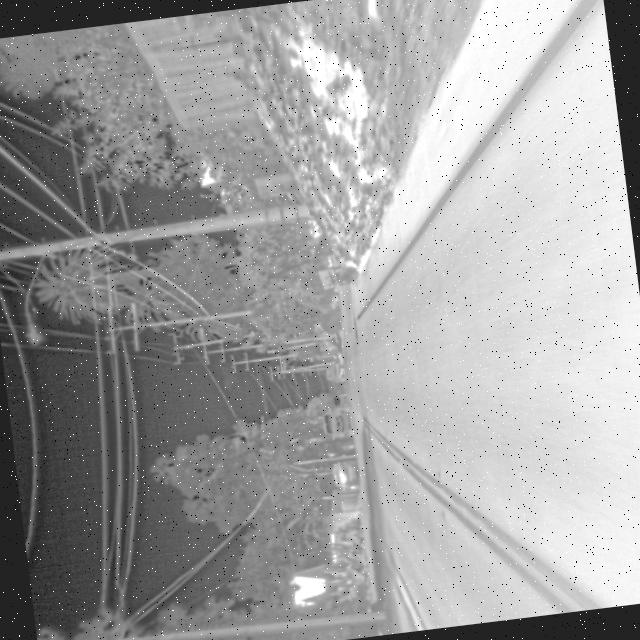Vehicle: (326, 456, 362, 493), (316, 406, 354, 440)
